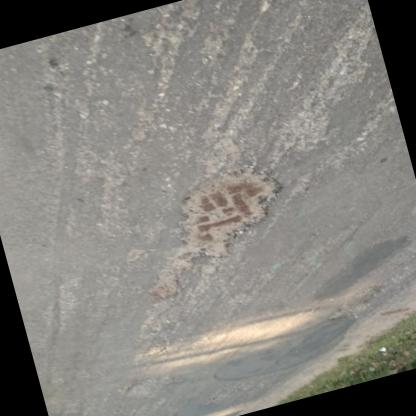pothole: (162, 152, 303, 269), (322, 282, 390, 324), (146, 269, 184, 304)
